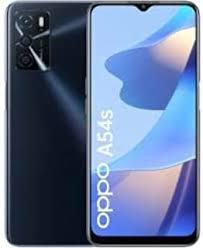Smartphone: (87, 6, 196, 244), (7, 3, 88, 244)
